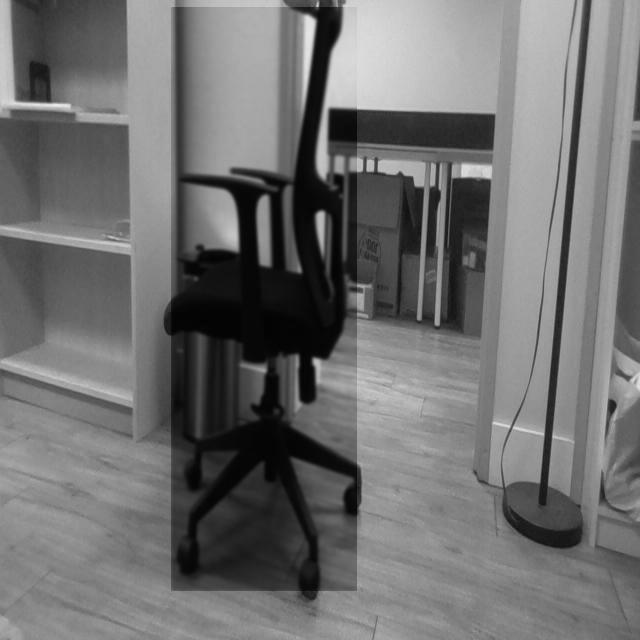chair: (169, 0, 357, 585)
